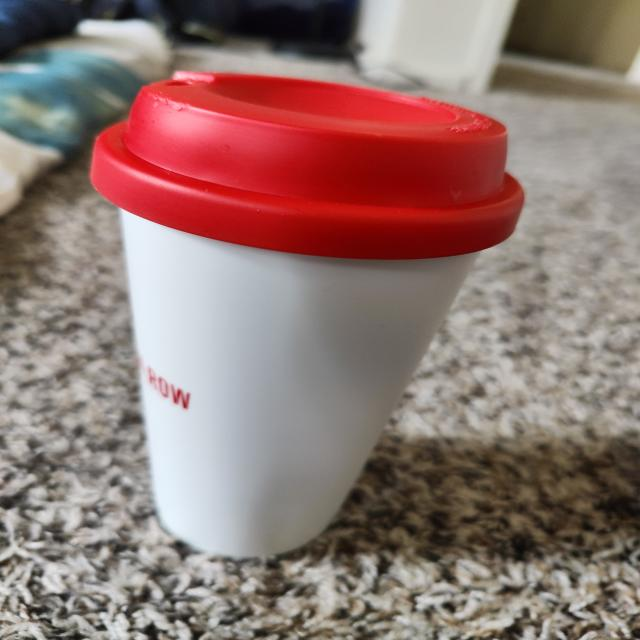mug: (88, 69, 516, 557)
